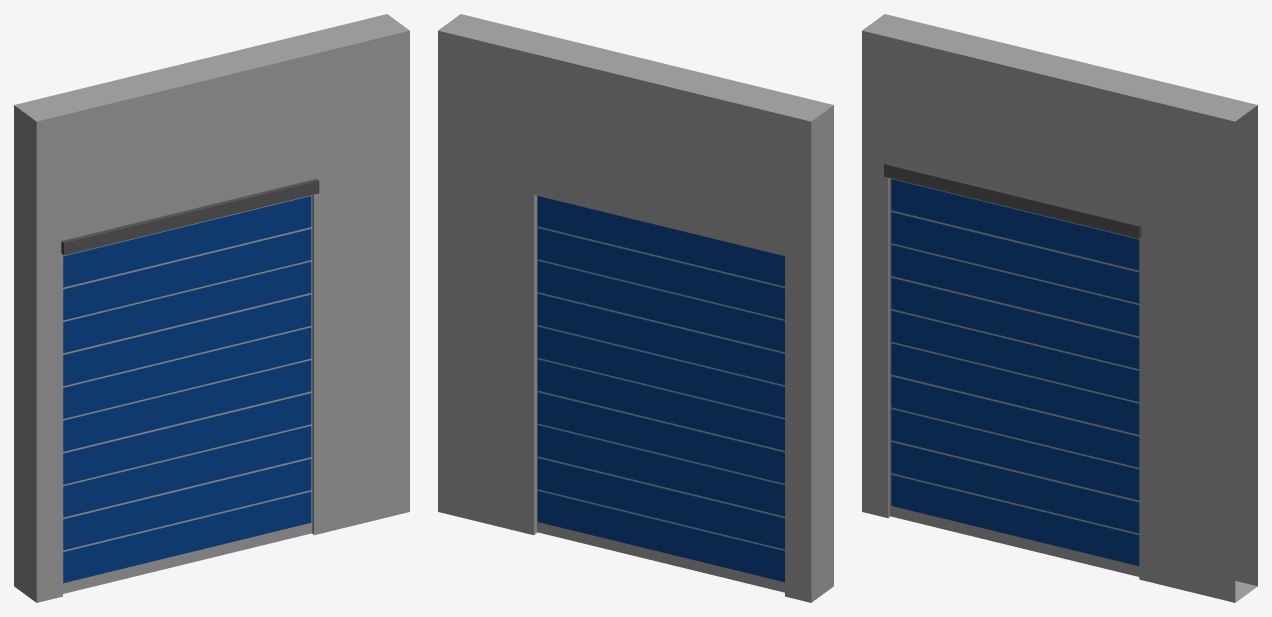
File: juanlianmen_01.fbx
3 views of the same model, side by side, from view 1: azimuth 30°, elevation 25°; view 2: azimuth 150°, elevation 25°; view 3: azimuth 330°, elevation 25° (orthographic).
Visible parts, largest first — view 1: polySurface3; view 2: polySurface3; view 3: polySurface3.
Part boxes in pixels (x1,y1,x2,y2): polySurface3: [14, 14, 409, 602]; polySurface3: [438, 14, 833, 602]; polySurface3: [862, 14, 1257, 602].
Bounding box in the file's own units: 958 × 1181 × 113.
